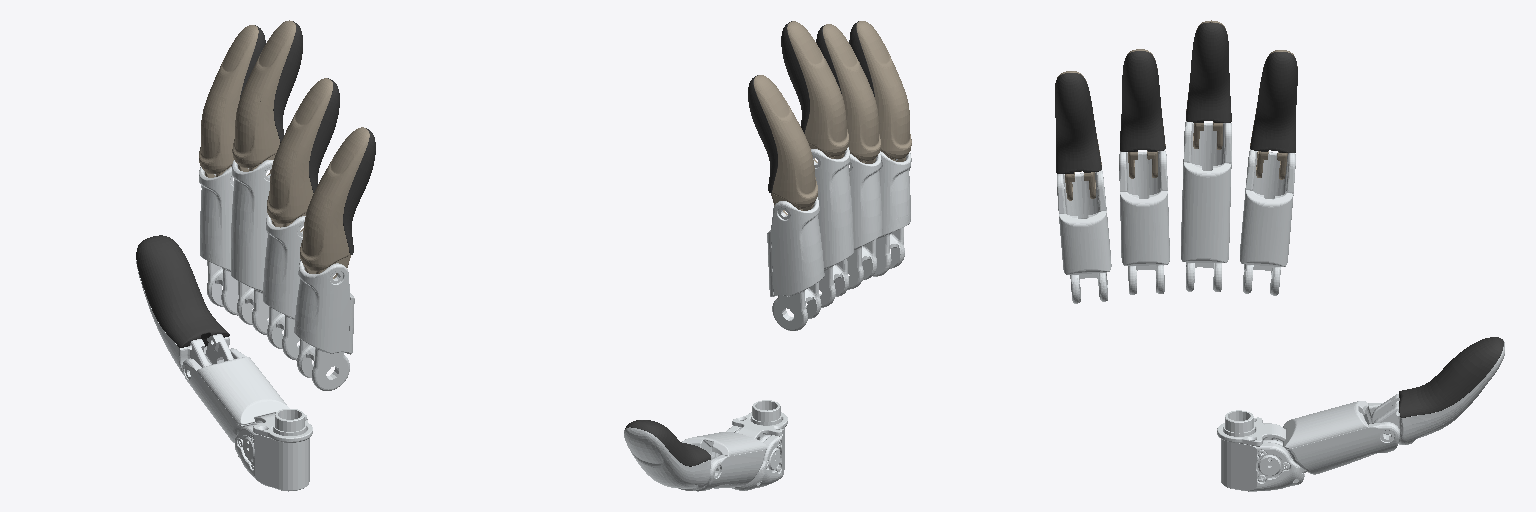
robot.urdf — ruihand6y:
<?xml version="1.0" encoding="utf-8"?>
<!-- This URDF was automatically created by SolidWorks to URDF Exporter! Originally created by [author] ([email redacted]) 
     Commit Version: 1.6.0-4-g7f85cfe  Build Version: 1.6.7995.38578
     For more information, please see http://wiki.ros.org/sw_urdf_exporter -->
<robot
  name="ruihand6y">
  <link
    name="base_link">
    <inertial>
      <origin
        xyz="-0.00354104285456125 0.00204598885782099 0.0605396757269698"
        rpy="0 0 0" />
      <mass
        value="0.211569079117232" />
      <inertia
        ixx="0.000227960492976313"
        ixy="2.84392055686079E-07"
        ixz="5.26461841221454E-06"
        iyy="0.00014411212671873"
        iyz="-2.9868718911556E-06"
        izz="0.000100006031139727" />
    </inertial>
    <visual>
      <origin
        xyz="0 0 0"
        rpy="0 0 0" />
      <geometry>
        <mesh
          filename="package://rh6_ctrl/urdf/meshes/base_link_y.STL" />
      </geometry>
      <material
        name="">
        <color
          rgba="0.898039215686275 0.917647058823529 0.929411764705882 1" />
      </material>
    </visual>
    <collision>
      <origin
        xyz="0 0 0"
        rpy="0 0 0" />
      <geometry>
        <mesh
          filename="package://rh6_ctrl/urdf/meshes/base_link_y.STL" />
      </geometry>
    </collision>
  </link>
  <link
    name="fy11_Link">
    <inertial>
      <origin
        xyz="0.00679002520654505 -1.28183186065556E-07 0.00921783143572007"
        rpy="0 0 0" />
      <mass
        value="0.0122865280263998" />
      <inertia
        ixx="7.8328209014543E-07"
        ixy="9.44825770755344E-12"
        ixz="1.45349144840083E-07"
        iyy="1.06364945004909E-06"
        iyz="-7.07109523425218E-12"
        izz="1.02116982302802E-06" />
    </inertial>
    <visual>
      <origin
        xyz="0 0 0"
        rpy="0 0 0" />
      <geometry>
        <mesh
          filename="package://rh6_ctrl/urdf/meshes/fy11_Link.STL" />
      </geometry>
      <material
        name="">
        <color
          rgba="0.898039215686275 0.917647058823529 0.929411764705882 1" />
      </material>
    </visual>
    <collision>
      <origin
        xyz="0 0 0"
        rpy="0 0 0" />
      <geometry>
        <mesh
          filename="package://rh6_ctrl/urdf/meshes/fy11_Link.STL" />
      </geometry>
    </collision>
  </link>
  <joint
    name="fy11"
    type="revolute">
    <origin
      xyz="0.0135 0.022 0.0398"
      rpy="0 0 1.5708" />
    <parent
      link="base_link" />
    <child
      link="fy11_Link" />
    <axis
      xyz="0 0 -1" />
    <limit
      lower="0"
      upper="2.356"
      effort="0"
      velocity="0" />
  </joint>
  <link
    name="fy12_Link">
    <inertial>
      <origin
        xyz="0.0171306597723995 0.00371896000224788 -4.99658958874605E-07"
        rpy="0 0 0" />
      <mass
        value="0.0125497959072737" />
      <inertia
        ixx="8.09093809009174E-07"
        ixy="-5.16426676935394E-07"
        ixz="2.07629840451354E-10"
        iyy="2.8318103299697E-06"
        iyz="-1.04479631329239E-11"
        izz="2.66845478314068E-06" />
    </inertial>
    <visual>
      <origin
        xyz="0 0 0"
        rpy="0 0 0" />
      <geometry>
        <mesh
          filename="package://rh6_ctrl/urdf/meshes/fy12_Link.STL" />
      </geometry>
      <material
        name="">
        <color
          rgba="0.898039215686275 0.917647058823529 0.929411764705882 1" />
      </material>
    </visual>
    <collision>
      <origin
        xyz="0 0 0"
        rpy="0 0 0" />
      <geometry>
        <mesh
          filename="package://rh6_ctrl/urdf/meshes/fy12_Link.STL" />
      </geometry>
    </collision>
  </link>
  <joint
    name="fy12"
    type="revolute">
    <origin
      xyz="0.0105 0 0.0107"
      rpy="1.5708 0 0" />
    <parent
      link="fy11_Link" />
    <child
      link="fy12_Link" />
    <axis
      xyz="0 0 1" />
    <limit
      lower="0"
      upper="0.698"
      effort="0"
      velocity="0" />
  </joint>
  <link
    name="fy13_Link">
    <inertial>
      <origin
        xyz="0.015845249321244 0.00619315314516696 5.25376853488524E-06"
        rpy="0 0 0" />
      <mass
        value="0.00766845638651249" />
      <inertia
        ixx="7.70929332520153E-07"
        ixy="-6.47381862466734E-07"
        ixz="-6.278147845085E-10"
        iyy="1.36029006441949E-06"
        iyz="-3.09433620722497E-10"
        izz="1.64848714565387E-06" />
    </inertial>
    <visual>
      <origin
        xyz="0 0 0"
        rpy="0 0 0" />
      <geometry>
        <mesh
          filename="package://rh6_ctrl/urdf/meshes/fy13_Link.STL" />
      </geometry>
      <material
        name="">
        <color
          rgba="0.898039215686275 0.917647058823529 0.929411764705882 1" />
      </material>
    </visual>
    <collision>
      <origin
        xyz="0 0 0"
        rpy="0 0 0" />
      <geometry>
        <mesh
          filename="package://rh6_ctrl/urdf/meshes/fy13_Link.STL" />
      </geometry>
    </collision>
  </link>
  <joint
    name="fy13"
    type="revolute">
    <origin
      xyz="0.040457 0.011223 0"
      rpy="0 0 0" />
    <parent
      link="fy12_Link" />
    <child
      link="fy13_Link" />
    <axis
      xyz="0 0 1" />
    <limit
      lower="0"
      upper="1.169"
      effort="0"
      velocity="0" />
  </joint>
  <link
    name="fy14_Link">
    <inertial>
      <origin
        xyz="6.84221826485754E-06 -0.00329677647236757 -0.0165004874842345"
        rpy="0 0 0" />
      <mass
        value="0.00378673281389124" />
      <inertia
        ixx="4.70044970141018E-07"
        ixy="-9.16610943606549E-13"
        ixz="9.80771602200776E-11"
        iyy="4.91875647343776E-07"
        iyz="-1.26714352849373E-07"
        izz="1.41742406291917E-07" />
    </inertial>
    <visual>
      <origin
        xyz="0 0 0"
        rpy="0 0 0" />
      <geometry>
        <mesh
          filename="package://rh6_ctrl/urdf/meshes/fy14_Link.STL" />
      </geometry>
      <material
        name="">
        <color
          rgba="0.298039215686275 0.298039215686275 0.298039215686275 1" />
      </material>
    </visual>
    <collision>
      <origin
        xyz="0 0 0"
        rpy="0 0 0" />
      <geometry>
        <mesh
          filename="package://rh6_ctrl/urdf/meshes/fy14_Link.STL" />
      </geometry>
    </collision>
  </link>
  <joint
    name="fy14"
    type="revolute">
    <origin
      xyz="0.036284 0.0268 0"
      rpy="-0.36834 1.5708 0" />
    <parent
      link="fy13_Link" />
    <child
      link="fy14_Link" />
    <axis
      xyz="0 0 1" />
    <limit
      lower="0"
      upper="0"
      effort="0"
      velocity="0" />
  </joint>
  <link
    name="fy21_Link">
    <inertial>
      <origin
        xyz="0.0183100453576791 0.00110404248642637 1.4314615770783E-06"
        rpy="0 0 0" />
      <mass
        value="0.0100639225371382" />
      <inertia
        ixx="4.62549818532259E-07"
        ixy="-1.43111709269249E-07"
        ixz="-2.02961569671992E-10"
        iyy="2.22041671394316E-06"
        iyz="-7.34804871357593E-11"
        izz="2.08162847489449E-06" />
    </inertial>
    <visual>
      <origin
        xyz="0 0 0"
        rpy="0 0 0" />
      <geometry>
        <mesh
          filename="package://rh6_ctrl/urdf/meshes/fy21_Link.STL" />
      </geometry>
      <material
        name="">
        <color
          rgba="0.898039215686275 0.917647058823529 0.929411764705882 1" />
      </material>
    </visual>
    <collision>
      <origin
        xyz="0 0 0"
        rpy="0 0 0" />
      <geometry>
        <mesh
          filename="package://rh6_ctrl/urdf/meshes/fy21_Link.STL" />
      </geometry>
    </collision>
  </link>
  <joint
    name="fy21"
    type="revolute">
    <origin
      xyz="-0.0035 0.029833 0.11095"
      rpy="0 -1.4923 1.5708" />
    <parent
      link="base_link" />
    <child
      link="fy21_Link" />
    <axis
      xyz="0 0 -1" />
    <limit
      lower="0"
      upper="1.518"
      effort="0"
      velocity="0" />
  </joint>
  <link
    name="fy22_Link">
    <inertial>
      <origin
        xyz="0.0162670548054254 0.000328335996538476 2.60886696606955E-07"
        rpy="0 0 0" />
      <mass
        value="0.00358605495739092" />
      <inertia
        ixx="1.44429039989069E-07"
        ixy="1.06001497335138E-07"
        ixz="5.32604155588992E-11"
        iyy="7.23506313818756E-07"
        iyz="-2.39237240611277E-11"
        izz="7.27978897340784E-07" />
    </inertial>
    <visual>
      <origin
        xyz="0 0 0"
        rpy="0 0 0" />
      <geometry>
        <mesh
          filename="package://rh6_ctrl/urdf/meshes/fy22_Link.STL" />
      </geometry>
      <material
        name="">
        <color
          rgba="0.658823529411765 0.619607843137255 0.56078431372549 1" />
      </material>
    </visual>
    <collision>
      <origin
        xyz="0 0 0"
        rpy="0 0 0" />
      <geometry>
        <mesh
          filename="package://rh6_ctrl/urdf/meshes/fy22_Link.STL" />
      </geometry>
    </collision>
  </link>
  <joint
    name="fy22"
    type="revolute">
    <origin
      xyz="0.0419 0.001 0"
      rpy="0 0 0" />
    <parent
      link="fy21_Link" />
    <child
      link="fy22_Link" />
    <axis
      xyz="0 0 -1" />
    <limit
      lower="0"
      upper="1.623"
      effort="0"
      velocity="0" />
  </joint>
  <link
    name="fy23_Link">
    <inertial>
      <origin
        xyz="-5.03450954461582E-06 0.0035802558028295 -0.0177331035964679"
        rpy="0 0 0" />
      <mass
        value="0.00260327905787072" />
      <inertia
        ixx="3.22614347129068E-07"
        ixy="1.33060728534008E-11"
        ixz="-1.18853194129732E-10"
        iyy="3.1138821138318E-07"
        iyz="9.01404791757268E-08"
        izz="7.26722620152445E-08" />
    </inertial>
    <visual>
      <origin
        xyz="0 0 0"
        rpy="0 0 0" />
      <geometry>
        <mesh
          filename="package://rh6_ctrl/urdf/meshes/fy23_Link.STL" />
      </geometry>
      <material
        name="">
        <color
          rgba="0.298039215686275 0.298039215686275 0.298039215686275 1" />
      </material>
    </visual>
    <collision>
      <origin
        xyz="0 0 0"
        rpy="0 0 0" />
      <geometry>
        <mesh
          filename="package://rh6_ctrl/urdf/meshes/fy23_Link.STL" />
      </geometry>
    </collision>
  </link>
  <joint
    name="fy23"
    type="revolute">
    <origin
      xyz="0.043692 -0.011217 0"
      rpy="-1.5708 1.5695 -1.5543" />
    <parent
      link="fy22_Link" />
    <child
      link="fy23_Link" />
    <axis
      xyz="0 0 -1" />
    <limit
      lower="0"
      upper="0"
      effort="0"
      velocity="0" />
  </joint>
  <link
    name="fy31_Link">
    <inertial>
      <origin
        xyz="0.0233371897488126 0.000590481232768836 1.05810883203883E-06"
        rpy="0 0 0" />
      <mass
        value="0.00829865569529675" />
      <inertia
        ixx="3.67197532035121E-07"
        ixy="-1.18935852306319E-07"
        ixz="-1.57676508902933E-10"
        iyy="2.37343189337524E-06"
        iyz="-3.77701441406405E-11"
        izz="2.26081333444121E-06" />
    </inertial>
    <visual>
      <origin
        xyz="0 0 0"
        rpy="0 0 0" />
      <geometry>
        <mesh
          filename="package://rh6_ctrl/urdf/meshes/fy31_Link.STL" />
      </geometry>
      <material
        name="">
        <color
          rgba="0.898039215686275 0.917647058823529 0.929411764705882 1" />
      </material>
    </visual>
    <collision>
      <origin
        xyz="0 0 0"
        rpy="0 0 0" />
      <geometry>
        <mesh
          filename="package://rh6_ctrl/urdf/meshes/fy31_Link.STL" />
      </geometry>
    </collision>
  </link>
  <joint
    name="fy31"
    type="revolute">
    <origin
      xyz="-0.0035 0.009945 0.112"
      rpy="0 -1.5446 1.5708" />
    <parent
      link="base_link" />
    <child
      link="fy31_Link" />
    <axis
      xyz="0 0 -1" />
    <limit
      lower="0"
      upper="1.571"
      effort="0"
      velocity="0" />
  </joint>
  <link
    name="fy32_Link">
    <inertial>
      <origin
        xyz="0.0162682170798479 0.000256347166125992 3.06763353261075E-07"
        rpy="0 0 0" />
      <mass
        value="0.00358603535605245" />
      <inertia
        ixx="1.45378610271944E-07"
        ixy="1.08558752300259E-07"
        ixz="4.9849784513399E-11"
        iyy="7.22549183303638E-07"
        iyz="-2.43260136945764E-11"
        izz="7.27970697204602E-07" />
    </inertial>
    <visual>
      <origin
        xyz="0 0 0"
        rpy="0 0 0" />
      <geometry>
        <mesh
          filename="package://rh6_ctrl/urdf/meshes/fy32_Link.STL" />
      </geometry>
      <material
        name="">
        <color
          rgba="0.658823529411765 0.619607843137255 0.56078431372549 1" />
      </material>
    </visual>
    <collision>
      <origin
        xyz="0 0 0"
        rpy="0 0 0" />
      <geometry>
        <mesh
          filename="package://rh6_ctrl/urdf/meshes/fy32_Link.STL" />
      </geometry>
    </collision>
  </link>
  <joint
    name="fy32"
    type="revolute">
    <origin
      xyz="0.0519 0.001 0"
      rpy="0 0 0" />
    <parent
      link="fy31_Link" />
    <child
      link="fy32_Link" />
    <axis
      xyz="0 0 -1" />
    <limit
      lower="0"
      upper="1.641"
      effort="0"
      velocity="0" />
  </joint>
  <link
    name="fy33_Link">
    <inertial>
      <origin
        xyz="-1.39419368525018E-06 0.0035802607719615 -0.0177330927084453"
        rpy="0 0 0" />
      <mass
        value="0.00260328811165374" />
      <inertia
        ixx="3.22618883425544E-07"
        ixy="3.93409844107229E-12"
        ixz="-3.33398326289438E-11"
        iyy="3.1139226640071E-07"
        iyz="9.01415489693662E-08"
        izz="7.26722969960641E-08" />
    </inertial>
    <visual>
      <origin
        xyz="0 0 0"
        rpy="0 0 0" />
      <geometry>
        <mesh
          filename="package://rh6_ctrl/urdf/meshes/fy33_Link.STL" />
      </geometry>
      <material
        name="">
        <color
          rgba="0.298039215686275 0.298039215686275 0.298039215686275 1" />
      </material>
    </visual>
    <collision>
      <origin
        xyz="0 0 0"
        rpy="0 0 0" />
      <geometry>
        <mesh
          filename="package://rh6_ctrl/urdf/meshes/fy33_Link.STL" />
      </geometry>
    </collision>
  </link>
  <joint
    name="fy33"
    type="revolute">
    <origin
      xyz="0.043641 -0.01141 0"
      rpy="-1.5708 1.5705 -1.5587" />
    <parent
      link="fy32_Link" />
    <child
      link="fy33_Link" />
    <axis
      xyz="0 0 -1" />
    <limit
      lower="0"
      upper="0"
      effort="0"
      velocity="0" />
  </joint>
  <link
    name="fy41_Link">
    <inertial>
      <origin
        xyz="0.0183100300728871 0.00110404217386961 1.44331117438168E-06"
        rpy="0 0 0" />
      <mass
        value="0.0100639366001575" />
      <inertia
        ixx="4.62549940478248E-07"
        ixy="-1.43110929372667E-07"
        ixz="-2.04350361871807E-10"
        iyy="2.22041795607779E-06"
        iyz="-7.4833604536666E-11"
        izz="2.08162888617781E-06" />
    </inertial>
    <visual>
      <origin
        xyz="0 0 0"
        rpy="0 0 0" />
      <geometry>
        <mesh
          filename="package://rh6_ctrl/urdf/meshes/fy41_Link.STL" />
      </geometry>
      <material
        name="">
        <color
          rgba="0.898039215686275 0.917647058823529 0.929411764705882 1" />
      </material>
    </visual>
    <collision>
      <origin
        xyz="0 0 0"
        rpy="0 0 0" />
      <geometry>
        <mesh
          filename="package://rh6_ctrl/urdf/meshes/fy41_Link.STL" />
      </geometry>
    </collision>
  </link>
  <joint
    name="fy41"
    type="revolute">
    <origin
      xyz="-0.0035 -0.009945 0.11099"
      rpy="3.1416 -1.5446 -1.5708" />
    <parent
      link="base_link" />
    <child
      link="fy41_Link" />
    <axis
      xyz="0 0 -1" />
    <limit
      lower="0"
      upper="1.571"
      effort="0"
      velocity="0" />
  </joint>
  <link
    name="fy42_Link">
    <inertial>
      <origin
        xyz="0.0162664773528961 0.000328549470069661 7.07663118645896E-07"
        rpy="0 0 0" />
      <mass
        value="0.00358590544643104" />
      <inertia
        ixx="1.44429028630629E-07"
        ixy="1.05993747396946E-07"
        ixz="3.0696952809912E-11"
        iyy="7.23463970805304E-07"
        iyz="-3.0630296311014E-11"
        izz="7.2793510267497E-07" />
    </inertial>
    <visual>
      <origin
        xyz="0 0 0"
        rpy="0 0 0" />
      <geometry>
        <mesh
          filename="package://rh6_ctrl/urdf/meshes/fy42_Link.STL" />
      </geometry>
      <material
        name="">
        <color
          rgba="0.658823529411765 0.619607843137255 0.56078431372549 1" />
      </material>
    </visual>
    <collision>
      <origin
        xyz="0 0 0"
        rpy="0 0 0" />
      <geometry>
        <mesh
          filename="package://rh6_ctrl/urdf/meshes/fy42_Link.STL" />
      </geometry>
    </collision>
  </link>
  <joint
    name="fy42"
    type="revolute">
    <origin
      xyz="0.0419 0.001 0"
      rpy="0 0 0" />
    <parent
      link="fy41_Link" />
    <child
      link="fy42_Link" />
    <axis
      xyz="0 0 -1" />
    <limit
      lower="0"
      upper="1.658"
      effort="0"
      velocity="0" />
  </joint>
  <link
    name="fy43_Link">
    <inertial>
      <origin
        xyz="1.8119656877702E-06 0.00358031778281198 -0.0177332688467031"
        rpy="0 0 0" />
      <mass
        value="0.00260331123444047" />
      <inertia
        ixx="3.22618912285256E-07"
        ixy="2.25533804931156E-12"
        ixz="1.89822416951554E-11"
        iyy="3.11392219554833E-07"
        iyz="9.01422800314552E-08"
        izz="7.26739626112056E-08" />
    </inertial>
    <visual>
      <origin
        xyz="0 0 0"
        rpy="0 0 0" />
      <geometry>
        <mesh
          filename="package://rh6_ctrl/urdf/meshes/fy43_Link.STL" />
      </geometry>
      <material
        name="">
        <color
          rgba="0.298039215686275 0.298039215686275 0.298039215686275 1" />
      </material>
    </visual>
    <collision>
      <origin
        xyz="0 0 0"
        rpy="0 0 0" />
      <geometry>
        <mesh
          filename="package://rh6_ctrl/urdf/meshes/fy43_Link.STL" />
      </geometry>
    </collision>
  </link>
  <joint
    name="fy43"
    type="revolute">
    <origin
      xyz="0.043692 -0.011217 0"
      rpy="1.5708 1.5704 1.5873" />
    <parent
      link="fy42_Link" />
    <child
      link="fy43_Link" />
    <axis
      xyz="0 0 -1" />
    <limit
      lower="0"
      upper="0"
      effort="0"
      velocity="0" />
  </joint>
  <link
    name="fy51_Link">
    <inertial>
      <origin
        xyz="0.0158684874364952 0.00100262567201714 1.32109851685991E-06"
        rpy="0 0 0" />
      <mass
        value="0.00870573306563604" />
      <inertia
        ixx="3.93124157202167E-07"
        ixy="-1.16969683848895E-07"
        ixz="-1.45438947668994E-10"
        iyy="1.63160442433223E-06"
        iyz="-5.82112463619306E-11"
        izz="1.50798061279593E-06" />
    </inertial>
    <visual>
      <origin
        xyz="0 0 0"
        rpy="0 0 0" />
      <geometry>
        <mesh
          filename="package://rh6_ctrl/urdf/meshes/fy51_Link.STL" />
      </geometry>
      <material
        name="">
        <color
          rgba="0.898039215686275 0.917647058823529 0.929411764705882 1" />
      </material>
    </visual>
    <collision>
      <origin
        xyz="0 0 0"
        rpy="0 0 0" />
      <geometry>
        <mesh
          filename="package://rh6_ctrl/urdf/meshes/fy51_Link.STL" />
      </geometry>
    </collision>
  </link>
  <joint
    name="fy51"
    type="revolute">
    <origin
      xyz="-0.0035 -0.029624 0.10795"
      rpy="3.1416 -1.4923 -1.5708" />
    <parent
      link="base_link" />
    <child
      link="fy51_Link" />
    <axis
      xyz="0 0 -1" />
    <limit
      lower="0"
      upper="1.545"
      effort="0"
      velocity="0" />
  </joint>
  <link
    name="fy52_Link">
    <inertial>
      <origin
        xyz="0.016266391799061 0.000328448417603933 7.642167395433E-07"
        rpy="0 0 0" />
      <mass
        value="0.00358587967262367" />
      <inertia
        ixx="1.44430764836659E-07"
        ixy="1.05997793149172E-07"
        ixz="2.74809999522819E-11"
        iyy="7.23455258661051E-07"
        iyz="-3.03898403226654E-11"
        izz="7.27927913373667E-07" />
    </inertial>
    <visual>
      <origin
        xyz="0 0 0"
        rpy="0 0 0" />
      <geometry>
        <mesh
          filename="package://rh6_ctrl/urdf/meshes/fy52_Link.STL" />
      </geometry>
      <material
        name="">
        <color
          rgba="0.658823529411765 0.619607843137255 0.56078431372549 1" />
      </material>
    </visual>
    <collision>
      <origin
        xyz="0 0 0"
        rpy="0 0 0" />
      <geometry>
        <mesh
          filename="package://rh6_ctrl/urdf/meshes/fy52_Link.STL" />
      </geometry>
    </collision>
  </link>
  <joint
    name="fy52"
    type="revolute">
    <origin
      xyz="0.0369 0.001 0"
      rpy="0 0 0" />
    <parent
      link="fy51_Link" />
    <child
      link="fy52_Link" />
    <axis
      xyz="0 0 -1" />
    <limit
      lower="0"
      upper="1.658"
      effort="0"
      velocity="0" />
  </joint>
  <link
    name="fy53_Link">
    <inertial>
      <origin
        xyz="5.01050953573279E-06 0.0035804146644185 -0.0177336047185497"
        rpy="0 0 0" />
      <mass
        value="0.00260328769879583" />
      <inertia
        ixx="3.22604577356363E-07"
        ixy="-6.35251503937563E-12"
        ixz="9.59700559637986E-11"
        iyy="3.11380365618274E-07"
        iyz="9.01380370887452E-08"
        izz="7.26739997568638E-08" />
    </inertial>
    <visual>
      <origin
        xyz="0 0 0"
        rpy="0 0 0" />
      <geometry>
        <mesh
          filename="package://rh6_ctrl/urdf/meshes/fy53_Link.STL" />
      </geometry>
      <material
        name="">
        <color
          rgba="0.298039215686275 0.298039215686275 0.298039215686275 1" />
      </material>
    </visual>
    <collision>
      <origin
        xyz="0 0 0"
        rpy="0 0 0" />
      <geometry>
        <mesh
          filename="package://rh6_ctrl/urdf/meshes/fy53_Link.STL" />
      </geometry>
    </collision>
  </link>
  <joint
    name="fy53"
    type="revolute">
    <origin
      xyz="0.043691 -0.011217 0"
      rpy="1.5708 1.5695 1.5873" />
    <parent
      link="fy52_Link" />
    <child
      link="fy53_Link" />
    <axis
      xyz="0 0 -1" />
    <limit
      lower="0"
      upper="0"
      effort="0"
      velocity="0" />
  </joint>
</robot>

--- Render facts (derived) ---
The picture shows the robot from 3 angles, left to right: view 1: azimuth 30°, elevation 25°; view 2: azimuth 150°, elevation 25°; view 3: azimuth 270°, elevation 25°; orthographic projection.
Robot: ruihand6y — 17 links, 16 joints (16 revolute); root link base_link; default pose: all joints at 0.
Visible links, largest first — view 1: fy51_Link, fy14_Link, fy31_Link, fy52_Link, fy12_Link, fy11_Link, fy32_Link, fy42_Link, fy22_Link, fy41_Link, fy21_Link, fy13_Link (+3 smaller); view 2: fy21_Link, fy31_Link, fy22_Link, fy32_Link, fy42_Link, fy52_Link, fy41_Link, fy51_Link, fy12_Link, fy13_Link, fy11_Link, fy14_Link (+2 smaller); view 3: fy31_Link, fy12_Link, fy21_Link, fy41_Link, fy51_Link, fy11_Link, fy43_Link, fy53_Link, fy23_Link, fy33_Link, fy14_Link, fy13_Link.
Link boxes in pixels (bbox=[...]): fy51_Link: bbox=[294, 260, 354, 390]; fy14_Link: bbox=[136, 235, 229, 347]; fy31_Link: bbox=[231, 160, 273, 334]; fy52_Link: bbox=[300, 127, 369, 278]; fy12_Link: bbox=[182, 348, 289, 442]; fy11_Link: bbox=[235, 409, 312, 491]; fy32_Link: bbox=[232, 20, 295, 175]; fy42_Link: bbox=[267, 78, 332, 231]; fy22_Link: bbox=[199, 25, 258, 177]; fy41_Link: bbox=[263, 215, 305, 360]; fy21_Link: bbox=[199, 167, 253, 315]; fy13_Link: bbox=[136, 247, 233, 374]; fy21_Link: bbox=[767, 197, 824, 330]; fy31_Link: bbox=[811, 147, 853, 307]; fy22_Link: bbox=[754, 75, 817, 214]; fy32_Link: bbox=[787, 21, 848, 162]; fy42_Link: bbox=[823, 24, 880, 163]; fy52_Link: bbox=[856, 21, 911, 161]; fy41_Link: bbox=[834, 153, 882, 289]; fy51_Link: bbox=[862, 151, 911, 276]; fy12_Link: bbox=[682, 429, 770, 491]; fy13_Link: bbox=[624, 427, 713, 490]; fy11_Link: bbox=[726, 400, 787, 490]; fy14_Link: bbox=[625, 420, 710, 466]; fy31_Link: bbox=[1181, 121, 1231, 291]; fy12_Link: bbox=[1263, 401, 1399, 474]; fy21_Link: bbox=[1240, 149, 1295, 295]; fy41_Link: bbox=[1119, 150, 1169, 294]; fy51_Link: bbox=[1057, 170, 1111, 303]; fy11_Link: bbox=[1217, 410, 1304, 491]; fy43_Link: bbox=[1120, 51, 1165, 151]; fy53_Link: bbox=[1055, 73, 1101, 173]; fy23_Link: bbox=[1250, 52, 1297, 152]; fy33_Link: bbox=[1186, 22, 1231, 122]; fy14_Link: bbox=[1399, 337, 1503, 417]; fy13_Link: bbox=[1371, 340, 1504, 444].
Size in the robot's own frame: 0.0381 by 0.1551 by 0.1731 metres.
16 mesh visuals loaded from 17 distinct referenced files (16 binary STL); not drawn: 1 (reference not matched to a file when rendering).
